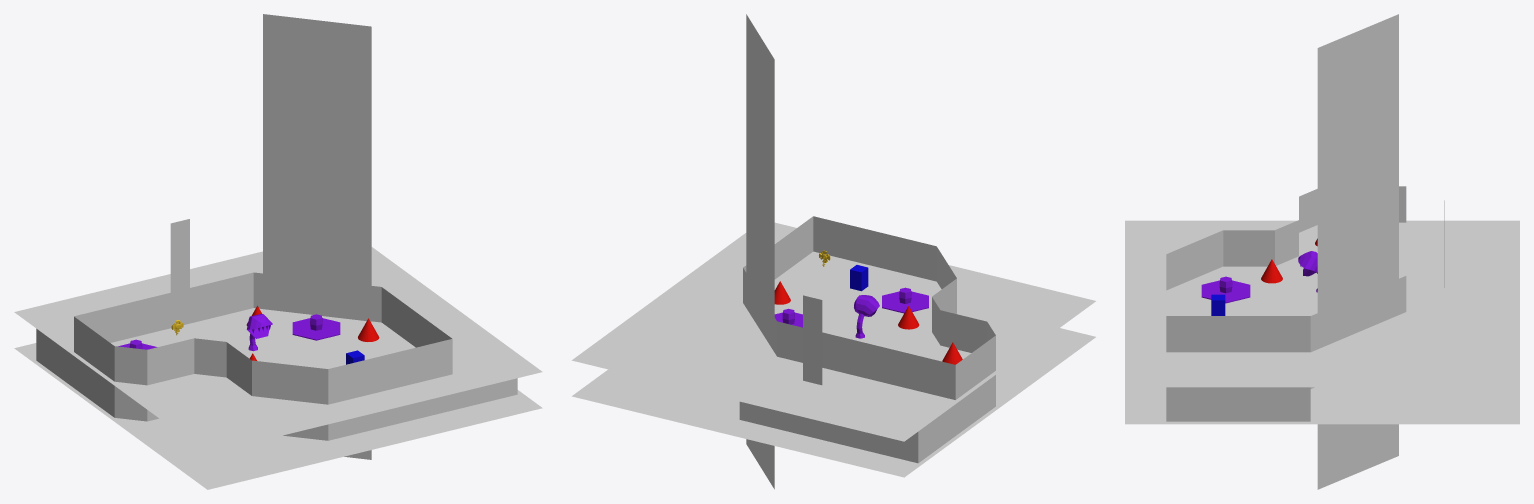
The model's file is N6-Pantano.fbx.
The picture shows the model from 3 angles, left to right: view 1: azimuth 30°, elevation 25°; view 2: azimuth 150°, elevation 25°; view 3: azimuth 270°, elevation 25°; orthographic projection. The views are drawn at different scales.
Visible parts, largest first — view 1: Base 1-6, Arbol Sequoia., Limite 1-6, Arbol.018, Barriles en Barro.011, Planta Carnivora.004; view 2: Base 1-6, Limite 1-6, Arbol Sequoia., Arbol.018, Barriles en Barro.012, Planta Carnivora.004; view 3: Base 1-6, Arbol Sequoia., Limite 1-6, Barriles en Barro.012.
Part boxes in pixels (x1=…): Base 1-6: x1=14, y1=247, x2=542, y2=489; Arbol Sequoia.: x1=263, y1=14, x2=371, y2=459; Limite 1-6: x1=74, y1=272, x2=452, y2=404; Arbol.018: x1=170, y1=219, x2=189, y2=292; Barriles en Barro.011: x1=292, y1=314, x2=340, y2=340; Planta Carnivora.004: x1=246, y1=313, x2=272, y2=351; Base 1-6: x1=571, y1=222, x2=1095, y2=477; Limite 1-6: x1=743, y1=216, x2=995, y2=399; Arbol Sequoia.: x1=746, y1=14, x2=774, y2=489; Arbol.018: x1=803, y1=295, x2=822, y2=385; Barriles en Barro.012: x1=882, y1=287, x2=928, y2=313; Planta Carnivora.004: x1=854, y1=295, x2=879, y2=338; Base 1-6: x1=1125, y1=220, x2=1519, y2=424; Arbol Sequoia.: x1=1317, y1=14, x2=1398, y2=489; Limite 1-6: x1=1166, y1=186, x2=1406, y2=352; Barriles en Barro.012: x1=1201, y1=276, x2=1250, y2=303.
Bounding box in the file's own units: 1942 × 2399 × 1942.
